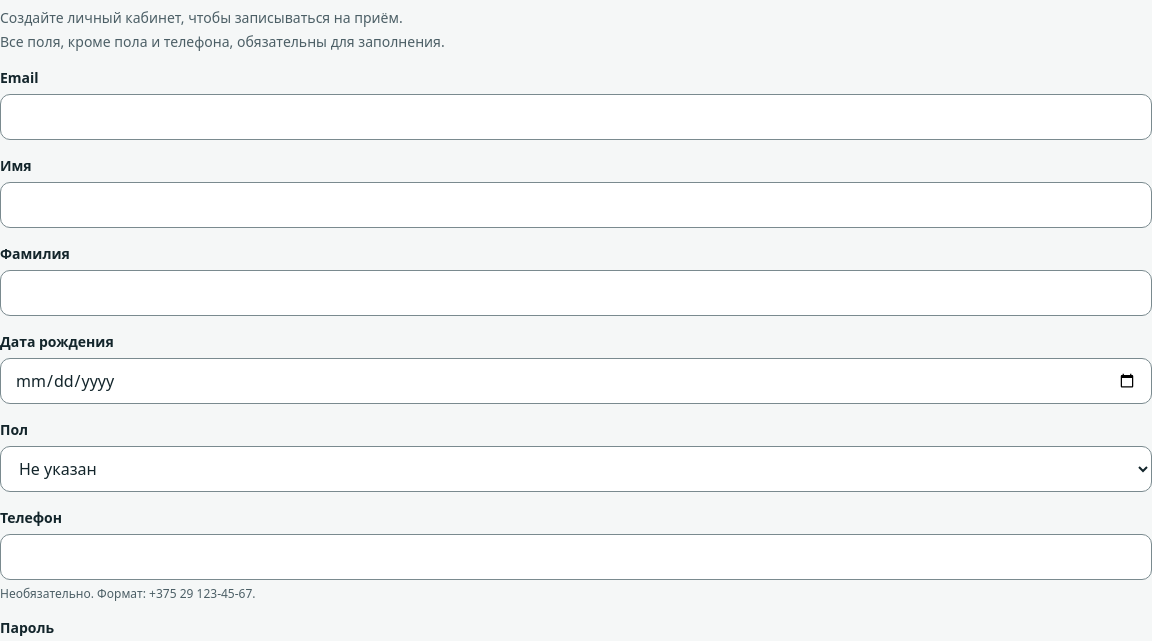
Test case: RegisterForm › should show the problem banner with its code when the server fails in any other way
Type " ivan@example.by " into the field labelled "Email" at (576,117), box [0,94,1151,140]
Type "Иван" into the field labelled "Имя" at (576,205), box [0,182,1151,228]
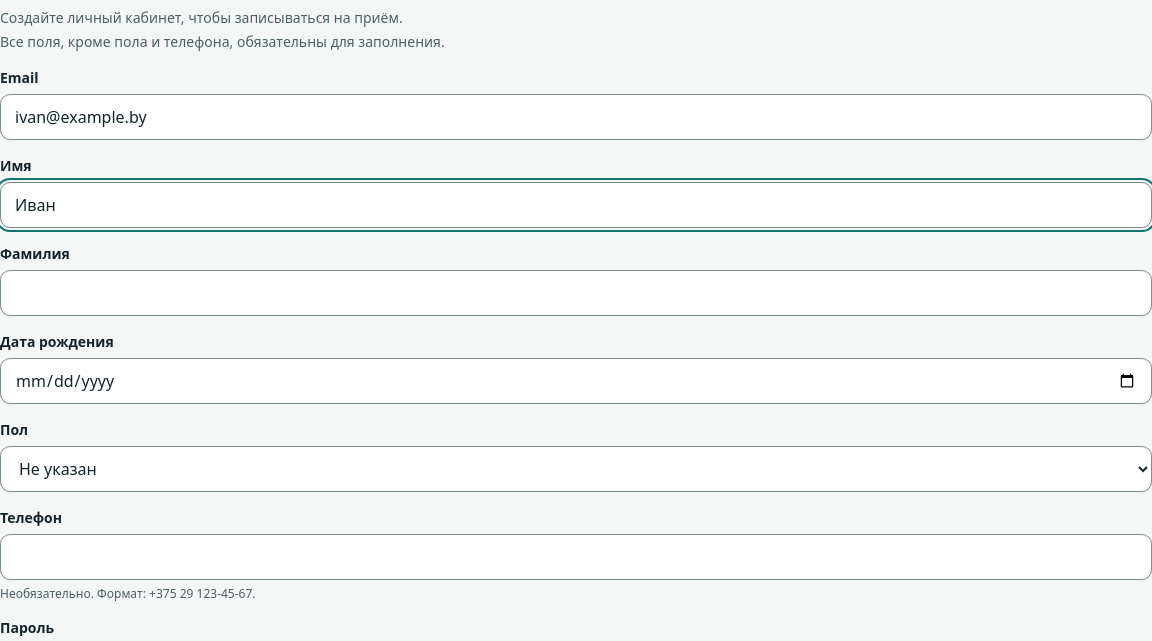
Type "Иванов" into the field labelled "Фамилия" at (576,293), box [0,270,1151,316]
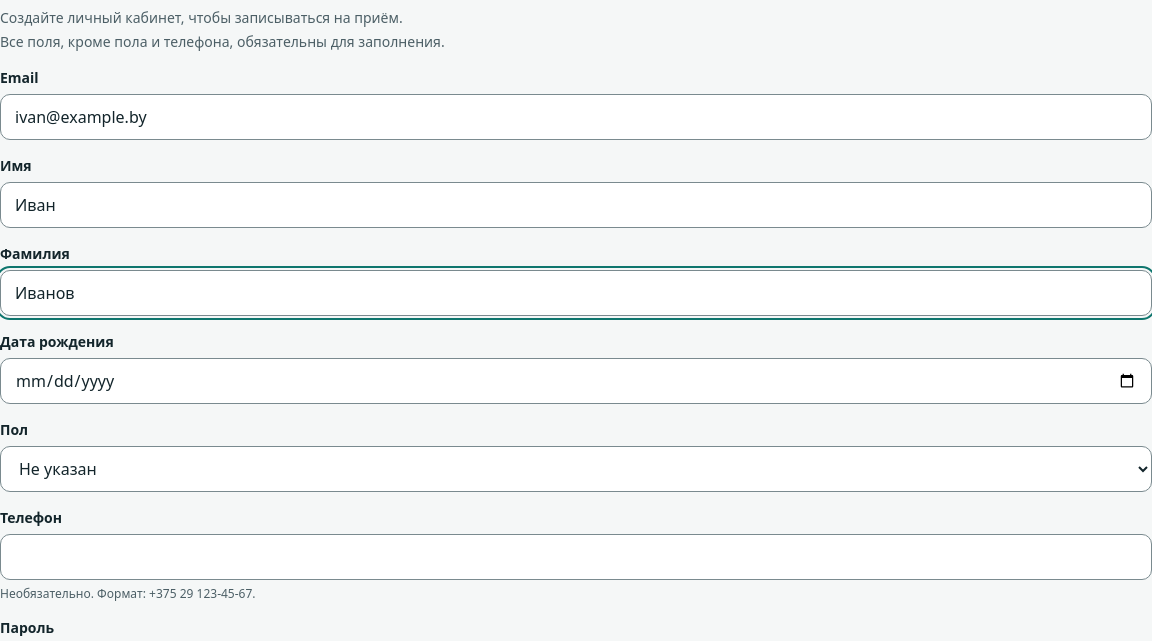
Type "1990-05-12" into the date field labelled "Дата рождения" at (576,381), box [0,358,1151,404]
(page scrolled)
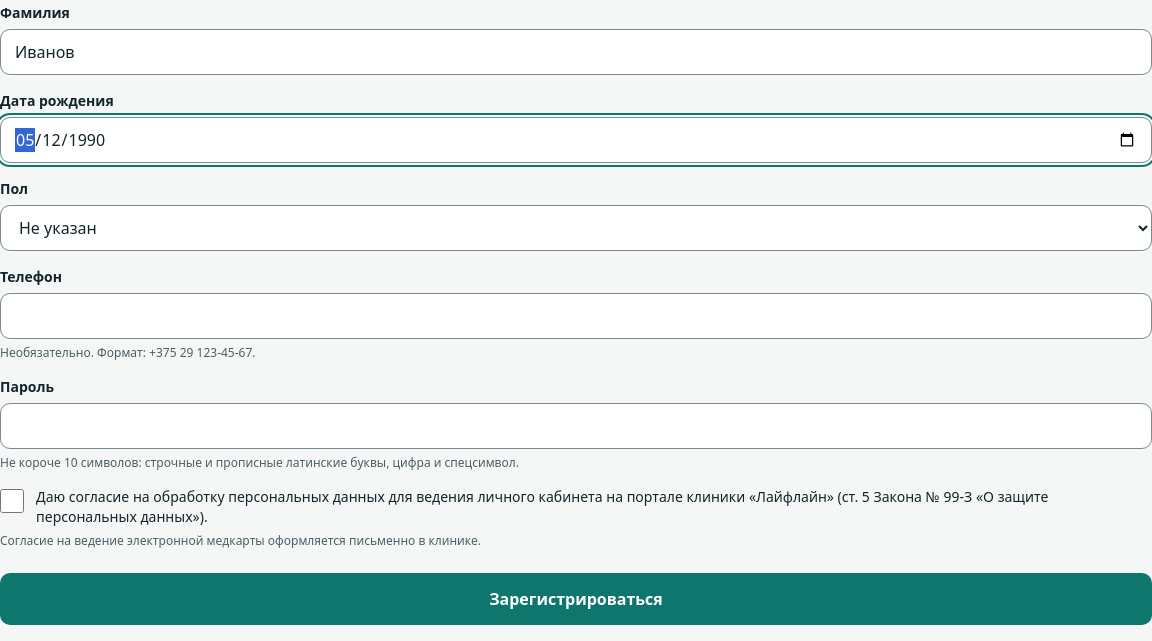
Type "Str0ng!Pass" into the password field labelled "Пароль" at (576,426), box [0,403,1151,449]
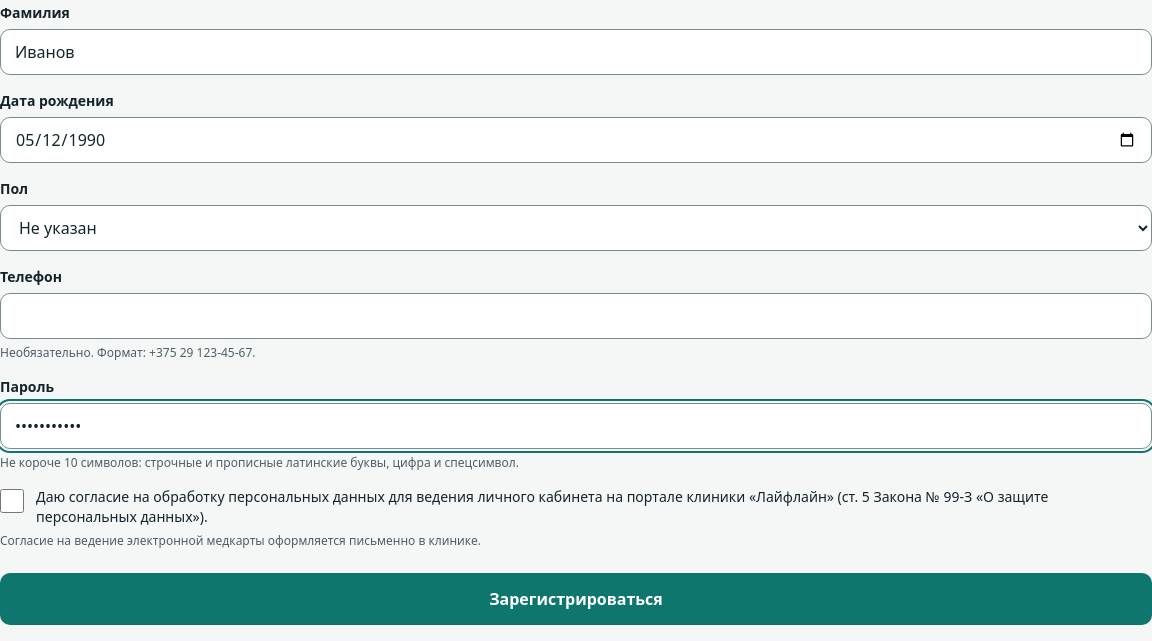
Click the checkbox labelled "согласие на обработку персональных данных" at (12,501), box [0,489,24,513]
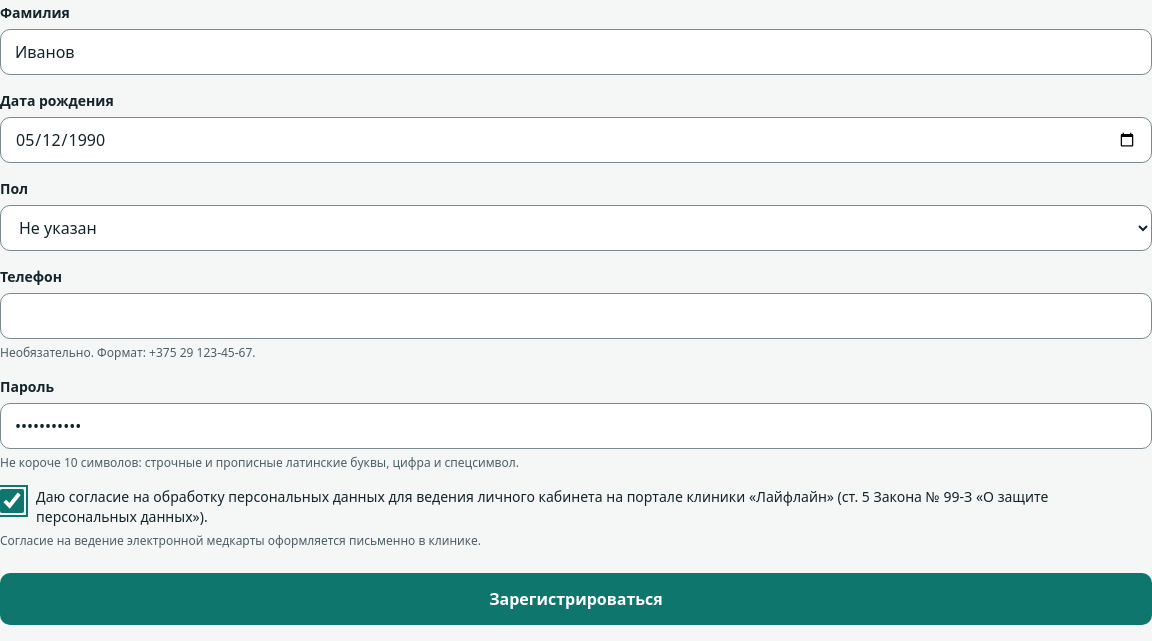
Click the button "Зарегистрироваться" at (576,599), box [0,573,1151,625]
(page scrolled)
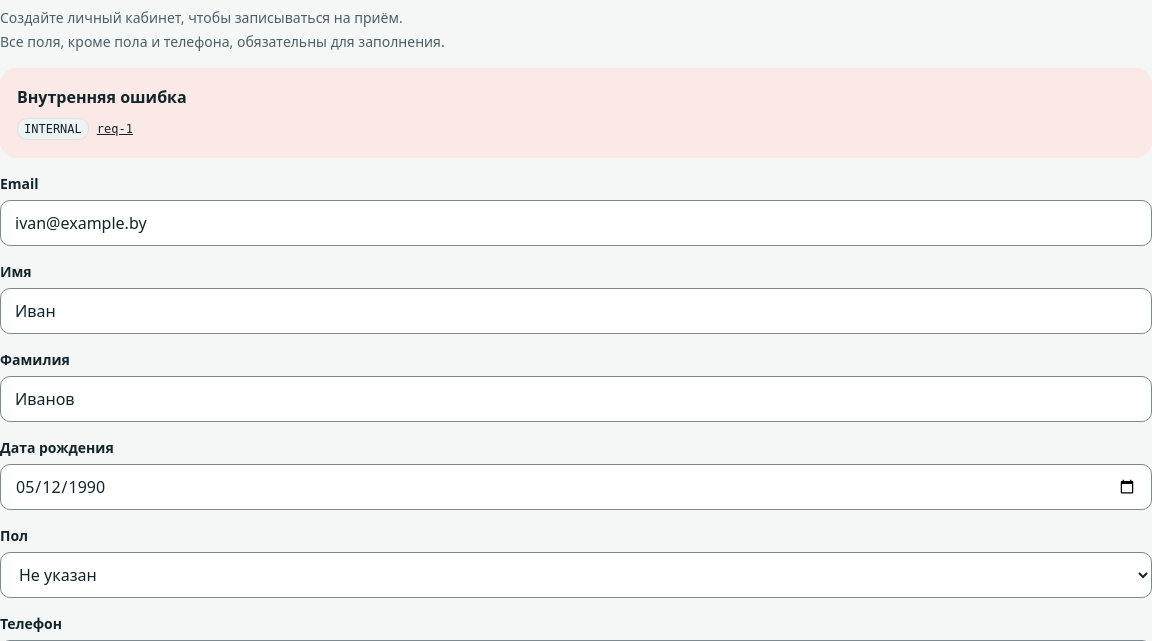
expect the message with test id "problem-banner" shows "INTERNAL": met, box [24,122,82,136]
